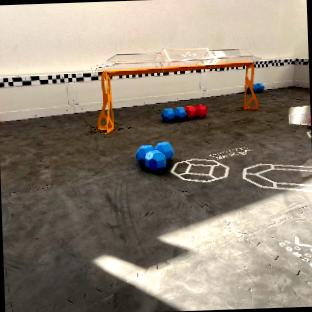V5_BLUE: (136, 142, 173, 169), (162, 108, 185, 120), (253, 84, 264, 92)
V5_RED: (185, 105, 207, 119), (195, 106, 207, 117)
